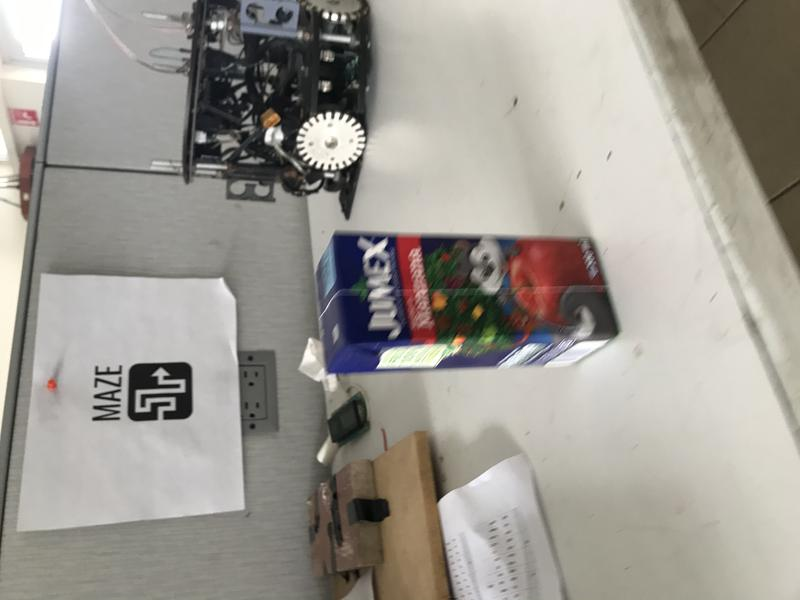jumex_cajita: (314, 231, 621, 375)
